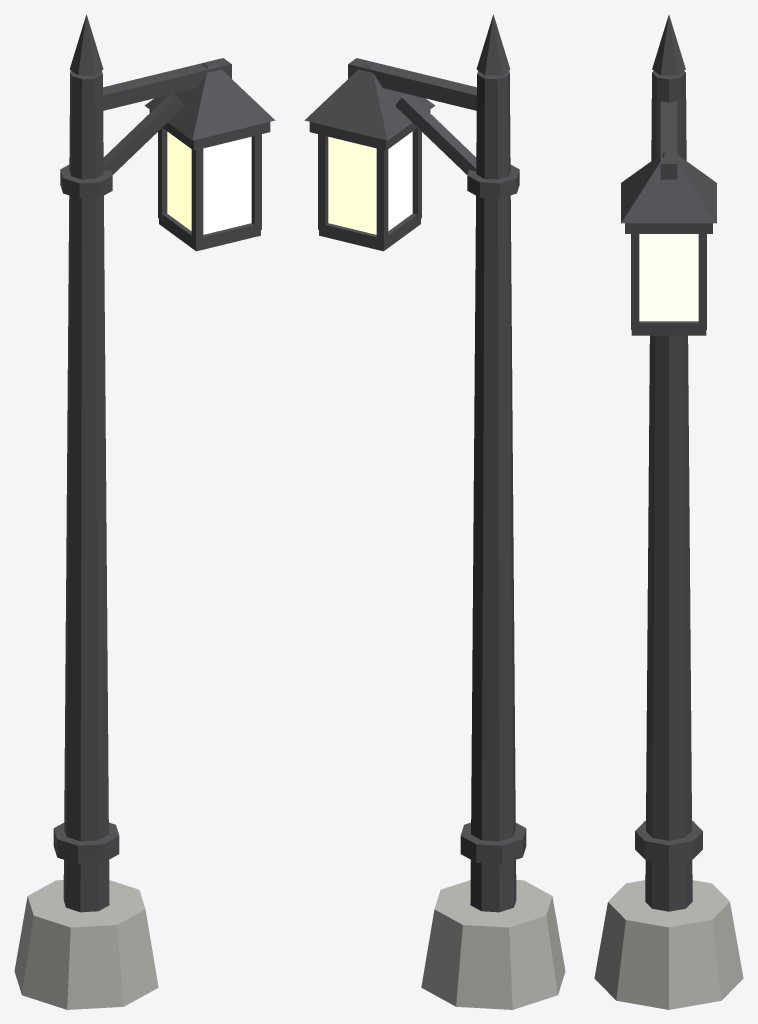
Rendered from LampPost.glb.
The picture shows the model from 3 angles, left to right: view 1: azimuth 30°, elevation 25°; view 2: azimuth 150°, elevation 25°; view 3: azimuth 270°, elevation 25°; orthographic projection.
Visible parts, largest first — view 1: LampPost; view 2: LampPost; view 3: LampPost.
Boxes of the visible parts, x1,y1,x2,y2 form: LampPost: (14,14,275,1009); LampPost: (304,14,565,1009); LampPost: (594,15,743,1009).
Bounding box in the file's own units: 0.7814 × 3.14 × 0.44.
